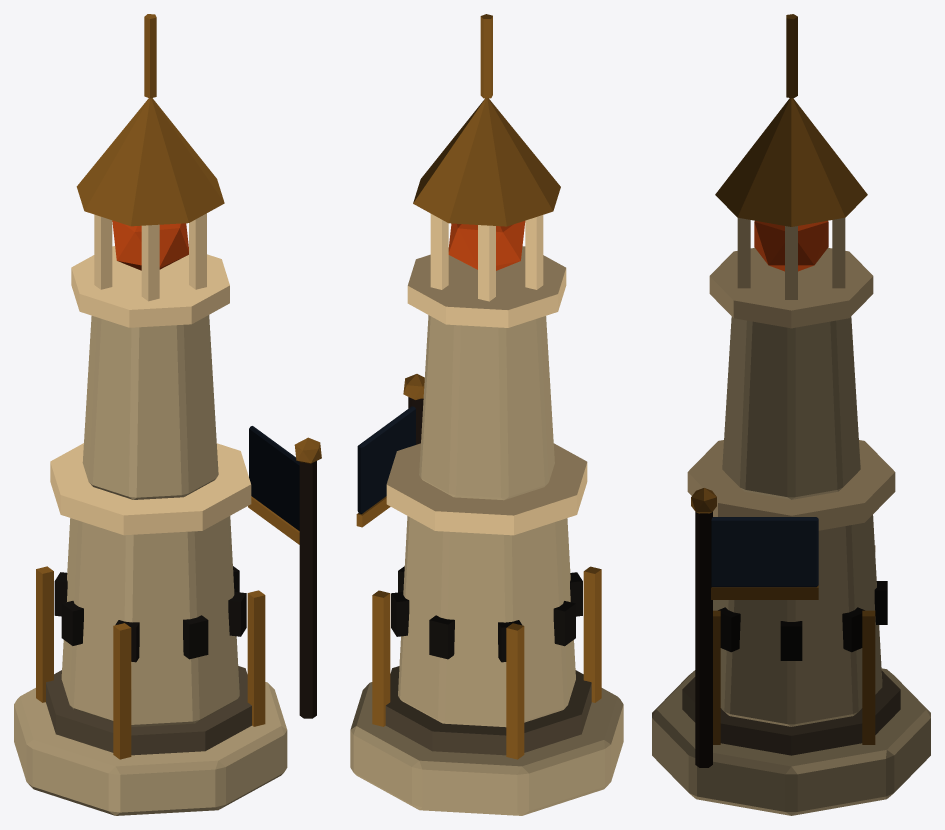
File: great_work_4.obj
3 views of the same model, side by side, from view 1: azimuth 30°, elevation 25°; view 2: azimuth 150°, elevation 25°; view 3: azimuth 270°, elevation 25° (orthographic).
Visible parts, largest first — view 1: core_stone, core_gold, core_white, core_stone_dark, core_wood_dark, core_window, core_team, core_fire; view 2: core_stone, core_white, core_gold, core_stone_dark, core_window, core_team, core_fire; view 3: core_stone, core_white, core_gold, core_team, core_stone_dark, core_wood_dark, core_window, core_fire.
Part boxes in pixels (bbox=[...]): core_stone: bbox=[14, 315, 287, 815]; core_gold: bbox=[36, 14, 321, 759]; core_white: bbox=[50, 213, 251, 535]; core_stone_dark: bbox=[46, 666, 251, 755]; core_wood_dark: bbox=[299, 461, 316, 718]; core_window: bbox=[54, 566, 246, 662]; core_team: bbox=[249, 426, 299, 530]; core_fire: bbox=[112, 220, 188, 270]; core_stone: bbox=[350, 315, 623, 815]; core_white: bbox=[386, 214, 587, 535]; core_gold: bbox=[356, 14, 601, 759]; core_stone_dark: bbox=[385, 666, 591, 755]; core_window: bbox=[391, 566, 582, 662]; core_team: bbox=[357, 406, 415, 514]; core_fire: bbox=[448, 221, 525, 270]; core_stone: bbox=[652, 316, 930, 815]; core_white: bbox=[687, 218, 895, 530]; core_gold: bbox=[691, 14, 875, 744]; core_team: bbox=[711, 517, 818, 587]; core_stone_dark: bbox=[682, 670, 900, 755]; core_wood_dark: bbox=[695, 512, 712, 767]; core_window: bbox=[718, 581, 887, 660]; core_fire: bbox=[754, 220, 828, 271].
Bounding box in the file's own units: 0.2602 × 0.75 × 0.2554.
